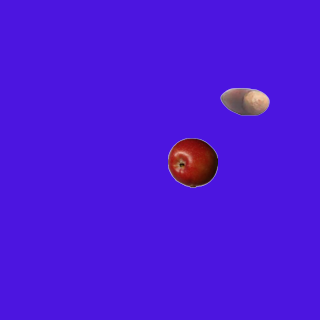Apple Braeburn: (167, 137, 217, 187)
Hazelnut: (219, 76, 269, 126)
